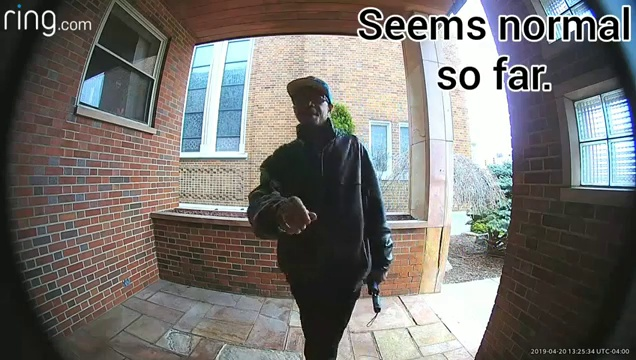face: (294, 95, 325, 125)
